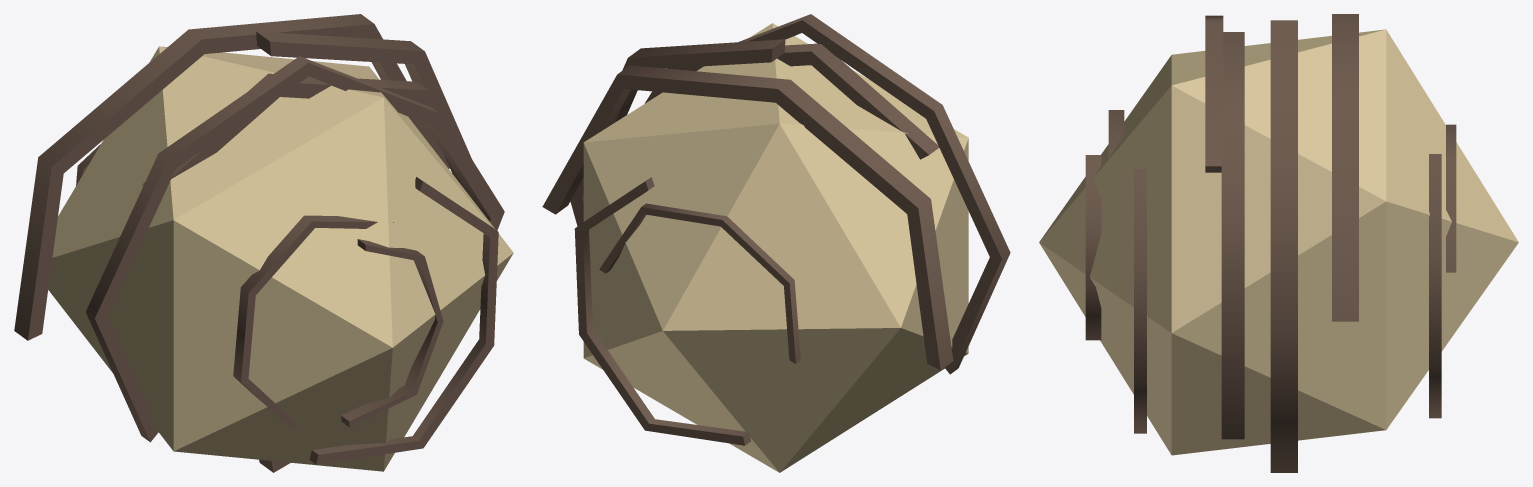
The model's file is Desert_tumbleweed.fbx.
The picture shows the model from 3 angles, left to right: view 1: azimuth 30°, elevation 25°; view 2: azimuth 150°, elevation 25°; view 3: azimuth 270°, elevation 25°; orthographic projection. The views are drawn at different scales.
Parts seen in each view (by area): view 1: Desert_tumbleweed; view 2: Desert_tumbleweed; view 3: Desert_tumbleweed.
Boxes of the visible parts, left/top/right/bottom form: Desert_tumbleweed: left=14, top=14, right=513, bottom=472; Desert_tumbleweed: left=542, top=14, right=1010, bottom=472; Desert_tumbleweed: left=1039, top=14, right=1518, bottom=472.
Size of the model in its own units: 40.89 by 40 by 39.44.
